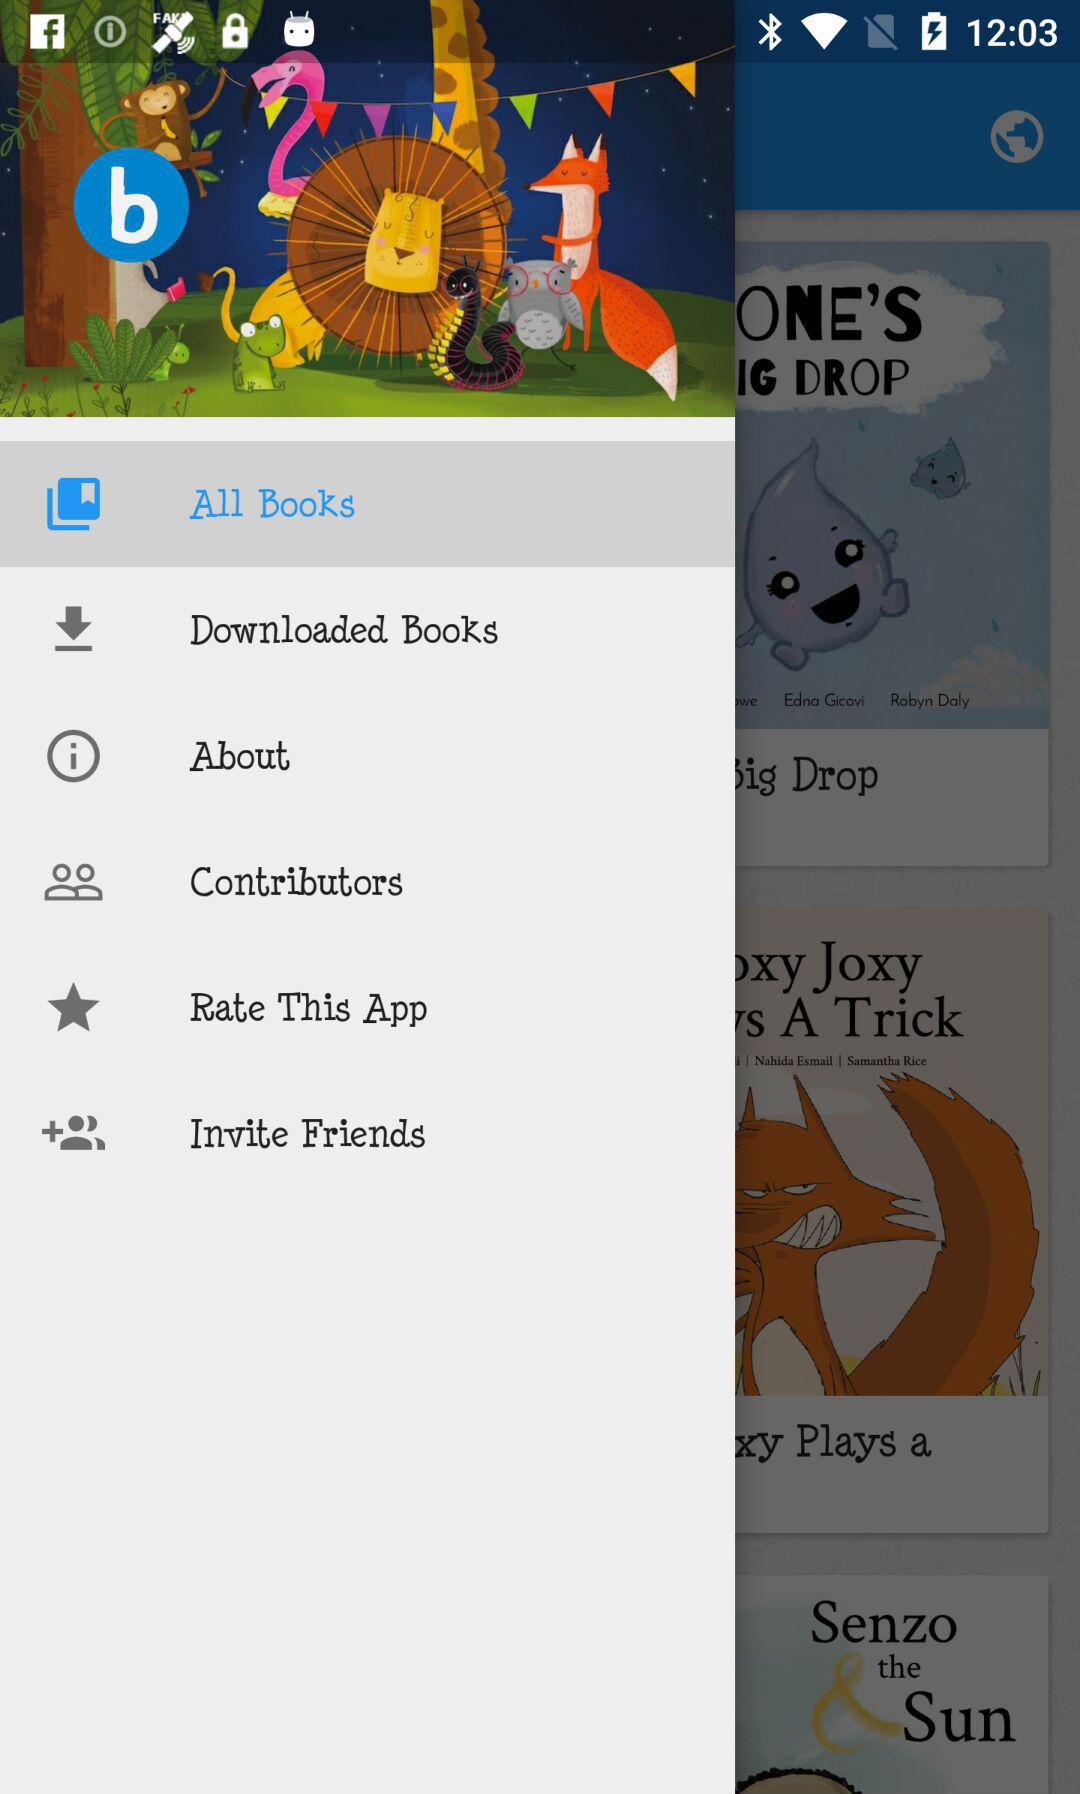Drawer: (1, 65, 735, 1793)
Icon: (47, 730, 102, 784), (47, 478, 102, 532), (47, 982, 102, 1033), (44, 862, 105, 903), (42, 1115, 108, 1152), (55, 606, 94, 654)
Image: (1, 65, 735, 418)
Text: (190, 614, 498, 646), (190, 991, 428, 1029), (190, 1117, 427, 1149), (191, 865, 404, 900), (190, 488, 356, 522), (190, 739, 291, 773)
UpperTaskBar: (1, 1, 1080, 64)
